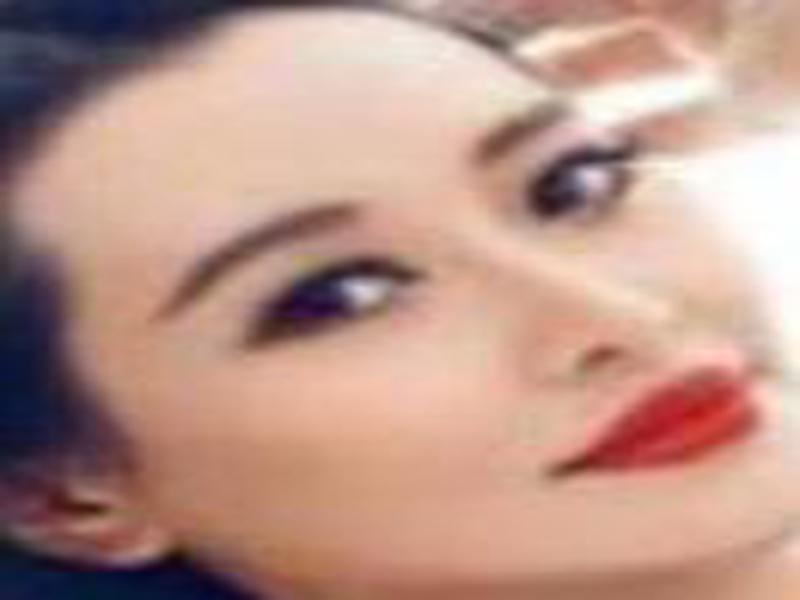without_mask: (19, 8, 795, 587)
